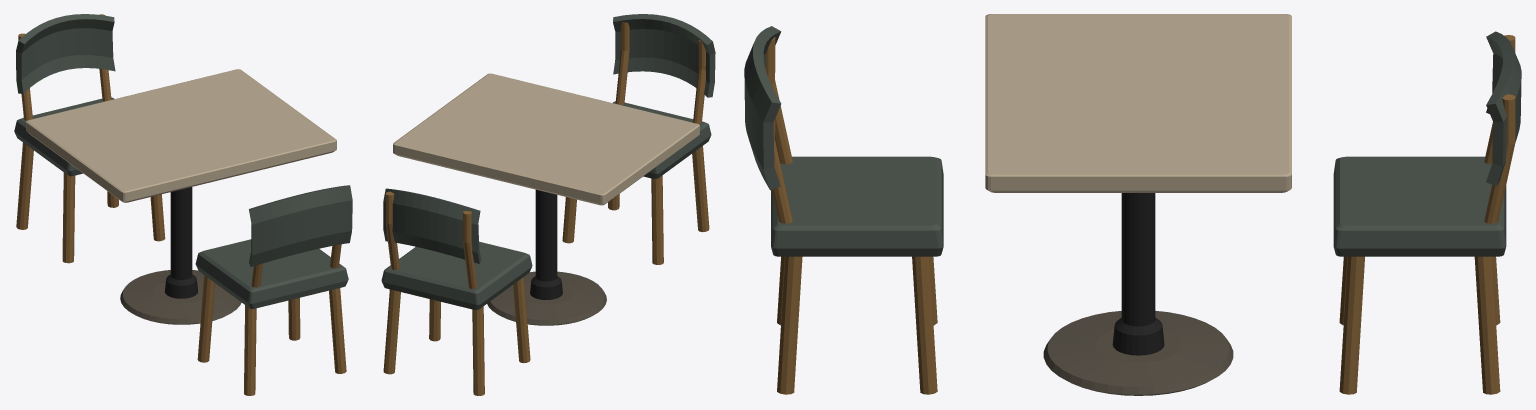
File: table.glb
The picture shows the model from 3 angles, left to right: view 1: azimuth 30°, elevation 25°; view 2: azimuth 150°, elevation 25°; view 3: azimuth 270°, elevation 25°; orthographic projection. The views are drawn at different scales.
Parts seen in each view (by area): view 1: 실내 조명 베이크용 table; view 2: 실내 조명 베이크용 table; view 3: 실내 조명 베이크용 table.
Part boxes in pixels (x1,y1,x2,y2): 실내 조명 베이크용 table: (14, 14, 352, 395); 실내 조명 베이크용 table: (381, 14, 715, 395); 실내 조명 베이크용 table: (744, 14, 1521, 395).
Size of the model in its own units: 0.98 by 0.8591 by 1.98.
